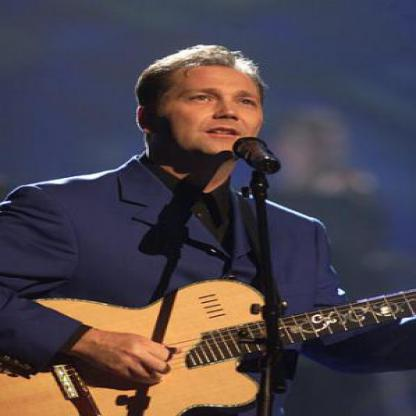face: (151, 56, 271, 162)
